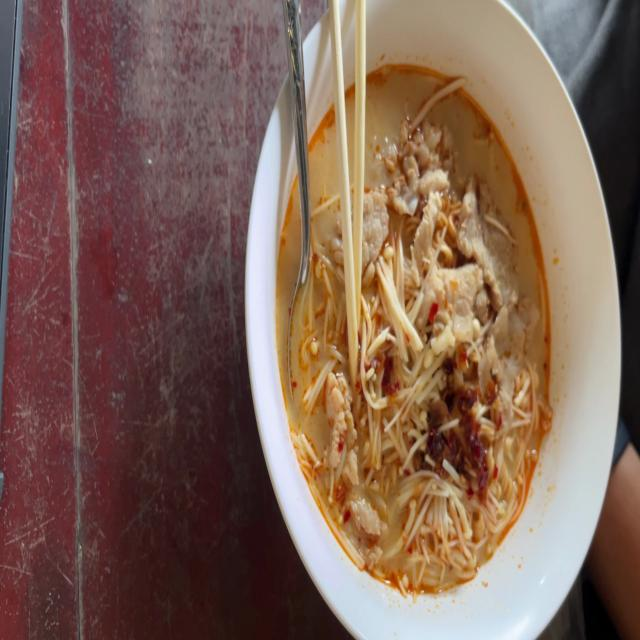noodle: (274, 58, 554, 587)
